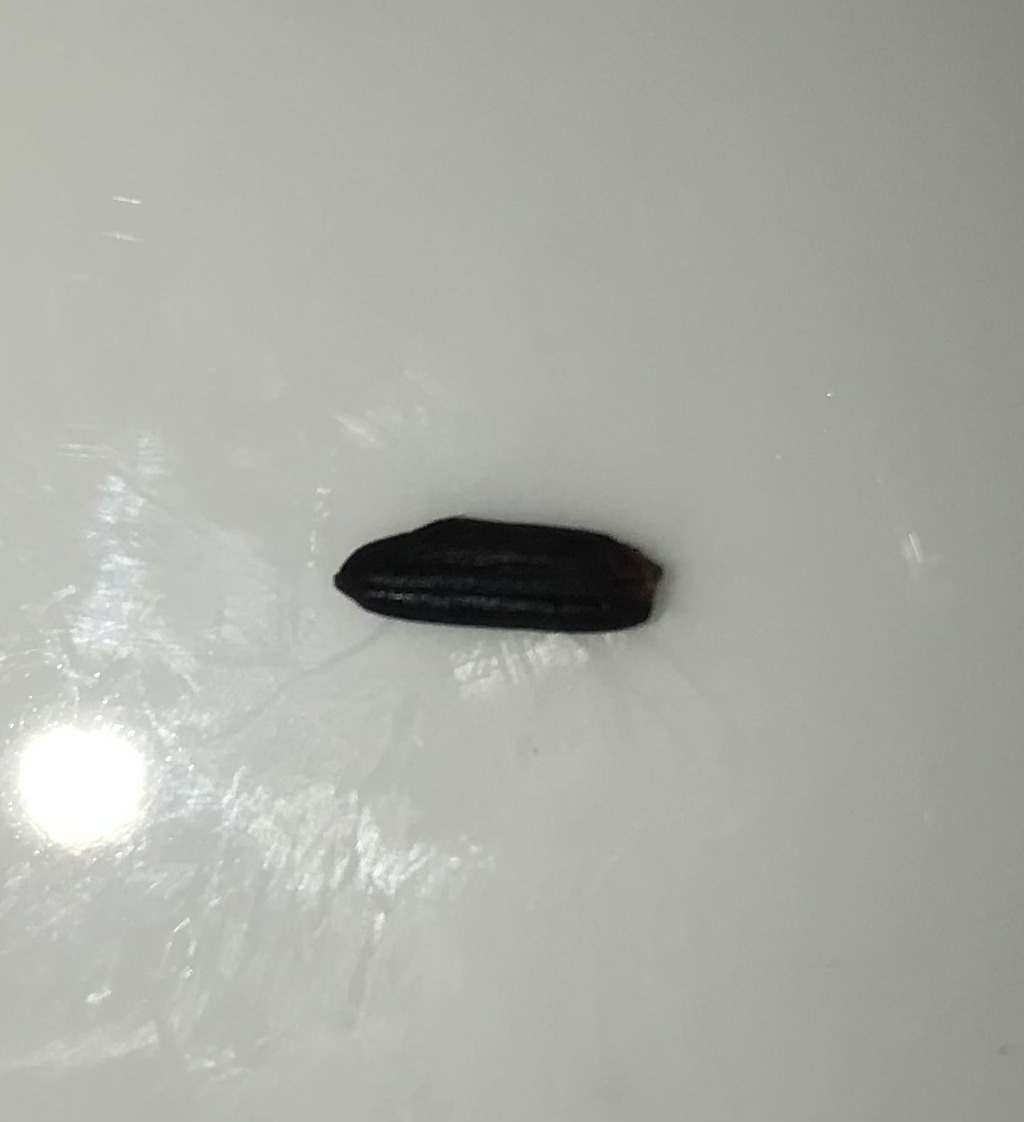Gao lut: (336, 512, 667, 640)
